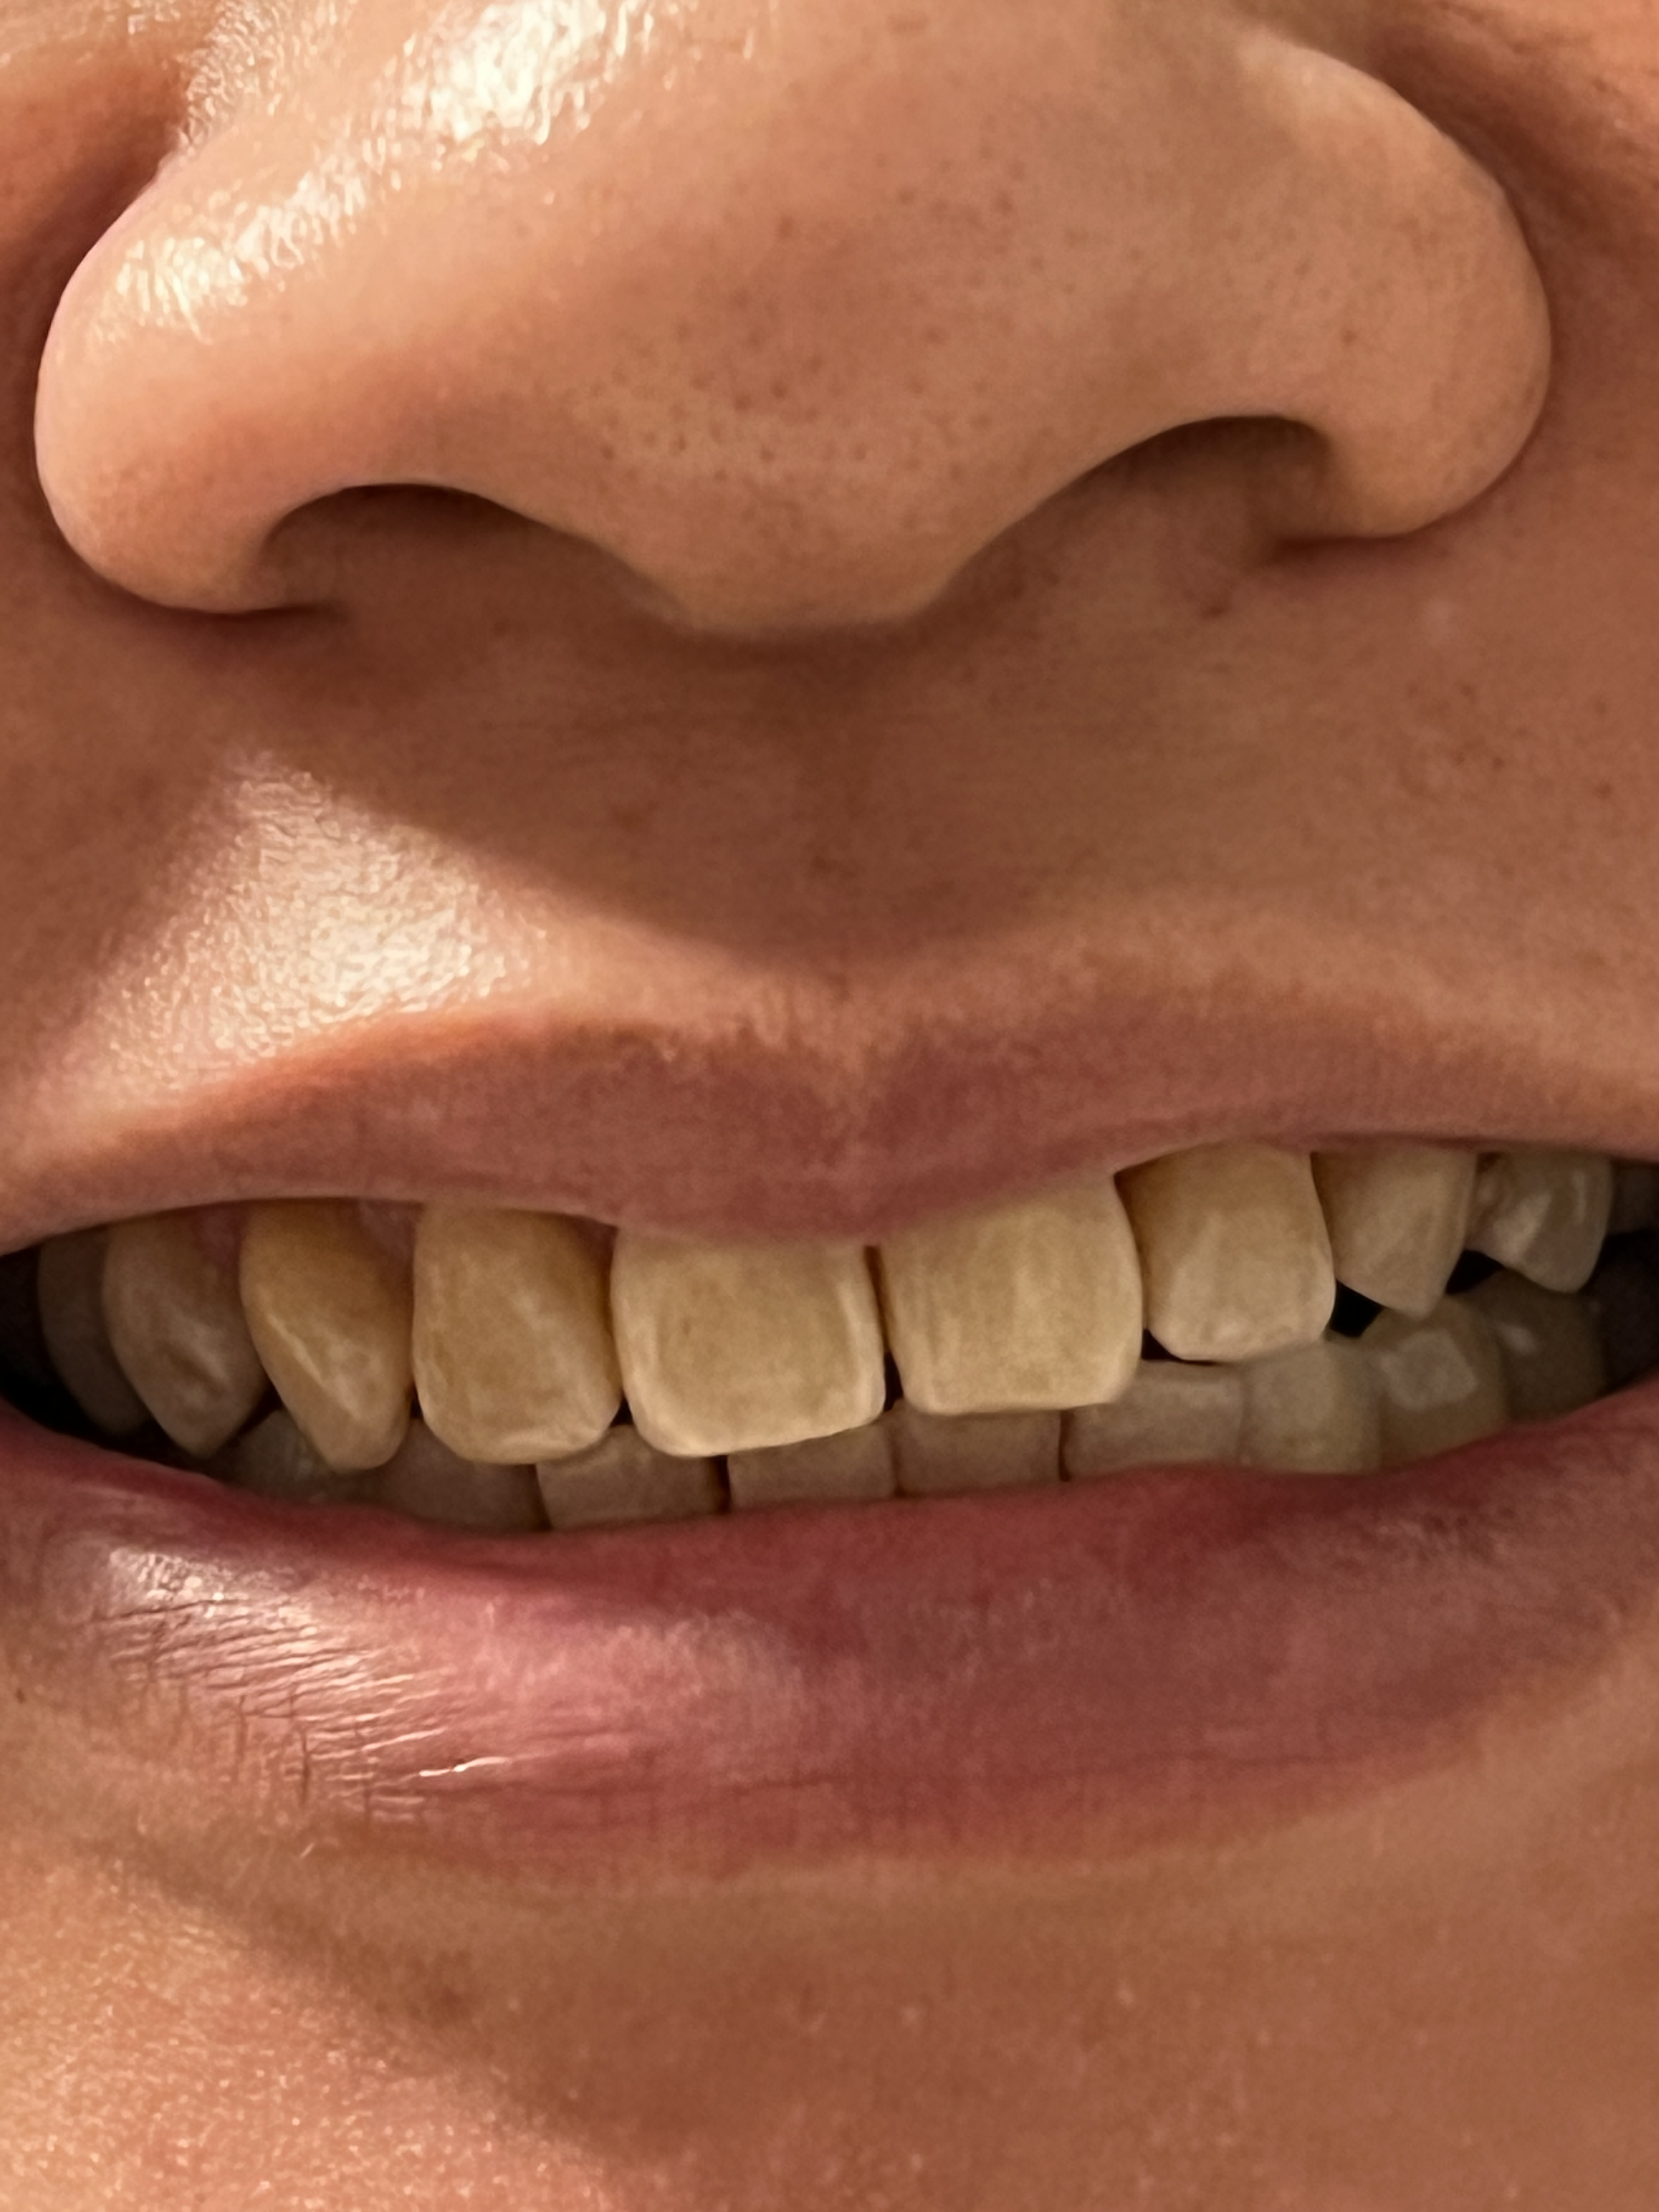teeth: (647, 1256, 868, 1461), (242, 1216, 389, 1479), (931, 1209, 1108, 1400), (429, 1221, 584, 1435), (113, 1247, 246, 1454), (1176, 1162, 1304, 1338), (1358, 1167, 1460, 1313), (934, 1416, 1054, 1500), (545, 1451, 669, 1529), (1269, 1357, 1354, 1449), (1124, 1392, 1227, 1461), (1509, 1183, 1591, 1259), (779, 1442, 864, 1508), (1408, 1322, 1467, 1414)
